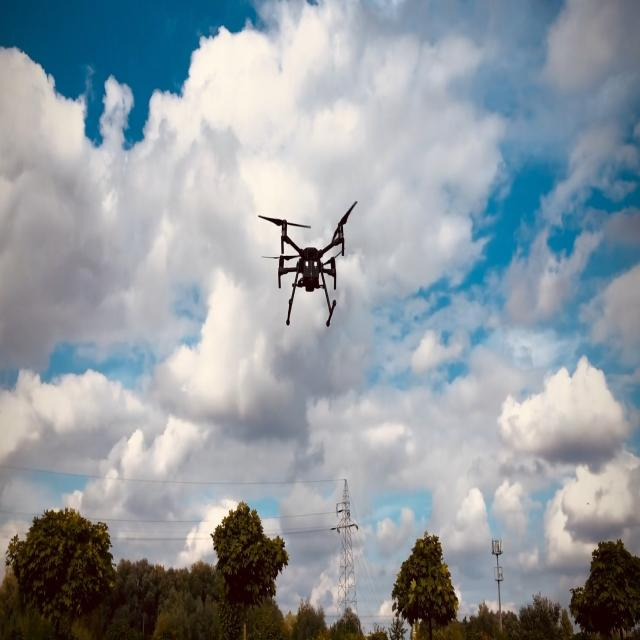drone: (257, 199, 358, 328)
